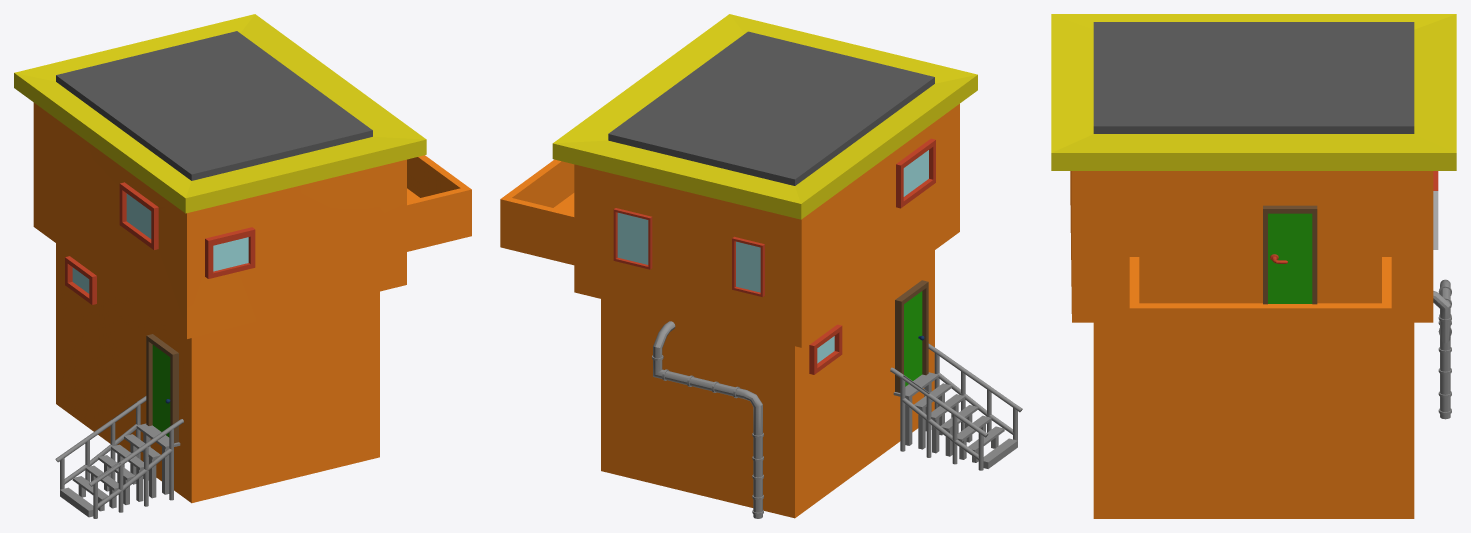
File: Small_Favelahouse(1).fbx
3 views of the same model, side by side, from view 1: azimuth 30°, elevation 25°; view 2: azimuth 150°, elevation 25°; view 3: azimuth 270°, elevation 25° (orthographic). The views are drawn at different scales.
Visible parts, largest first — view 1: Small_Favelahouse; view 2: Small_Favelahouse; view 3: Small_Favelahouse.
Part boxes in pixels (x1,y1,x2,y2): Small_Favelahouse: [14, 14, 471, 518]; Small_Favelahouse: [500, 14, 1022, 518]; Small_Favelahouse: [1051, 14, 1456, 518].
Bounding box in the file's own units: 9842 × 7960 × 7517.
